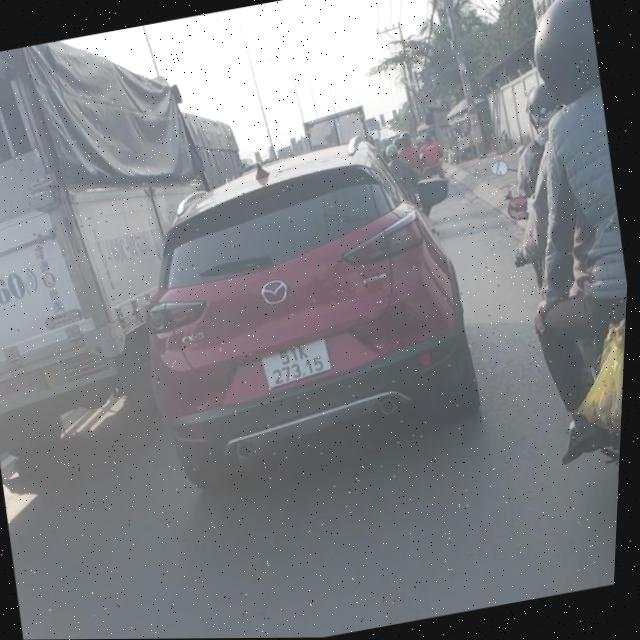car: (94, 111, 524, 505)
plate: (248, 330, 343, 393)
